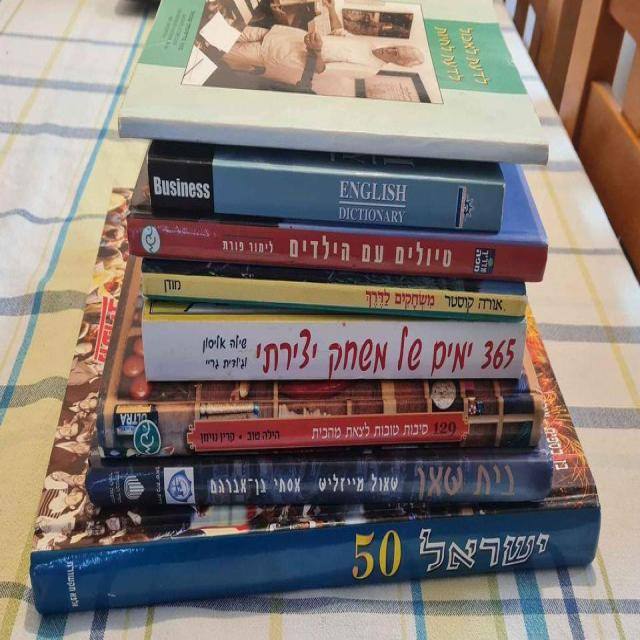book: (29, 506, 599, 619), (127, 216, 549, 281), (147, 160, 506, 231), (142, 320, 527, 382), (96, 406, 544, 458), (86, 463, 552, 510), (119, 116, 549, 164), (142, 272, 527, 320)
